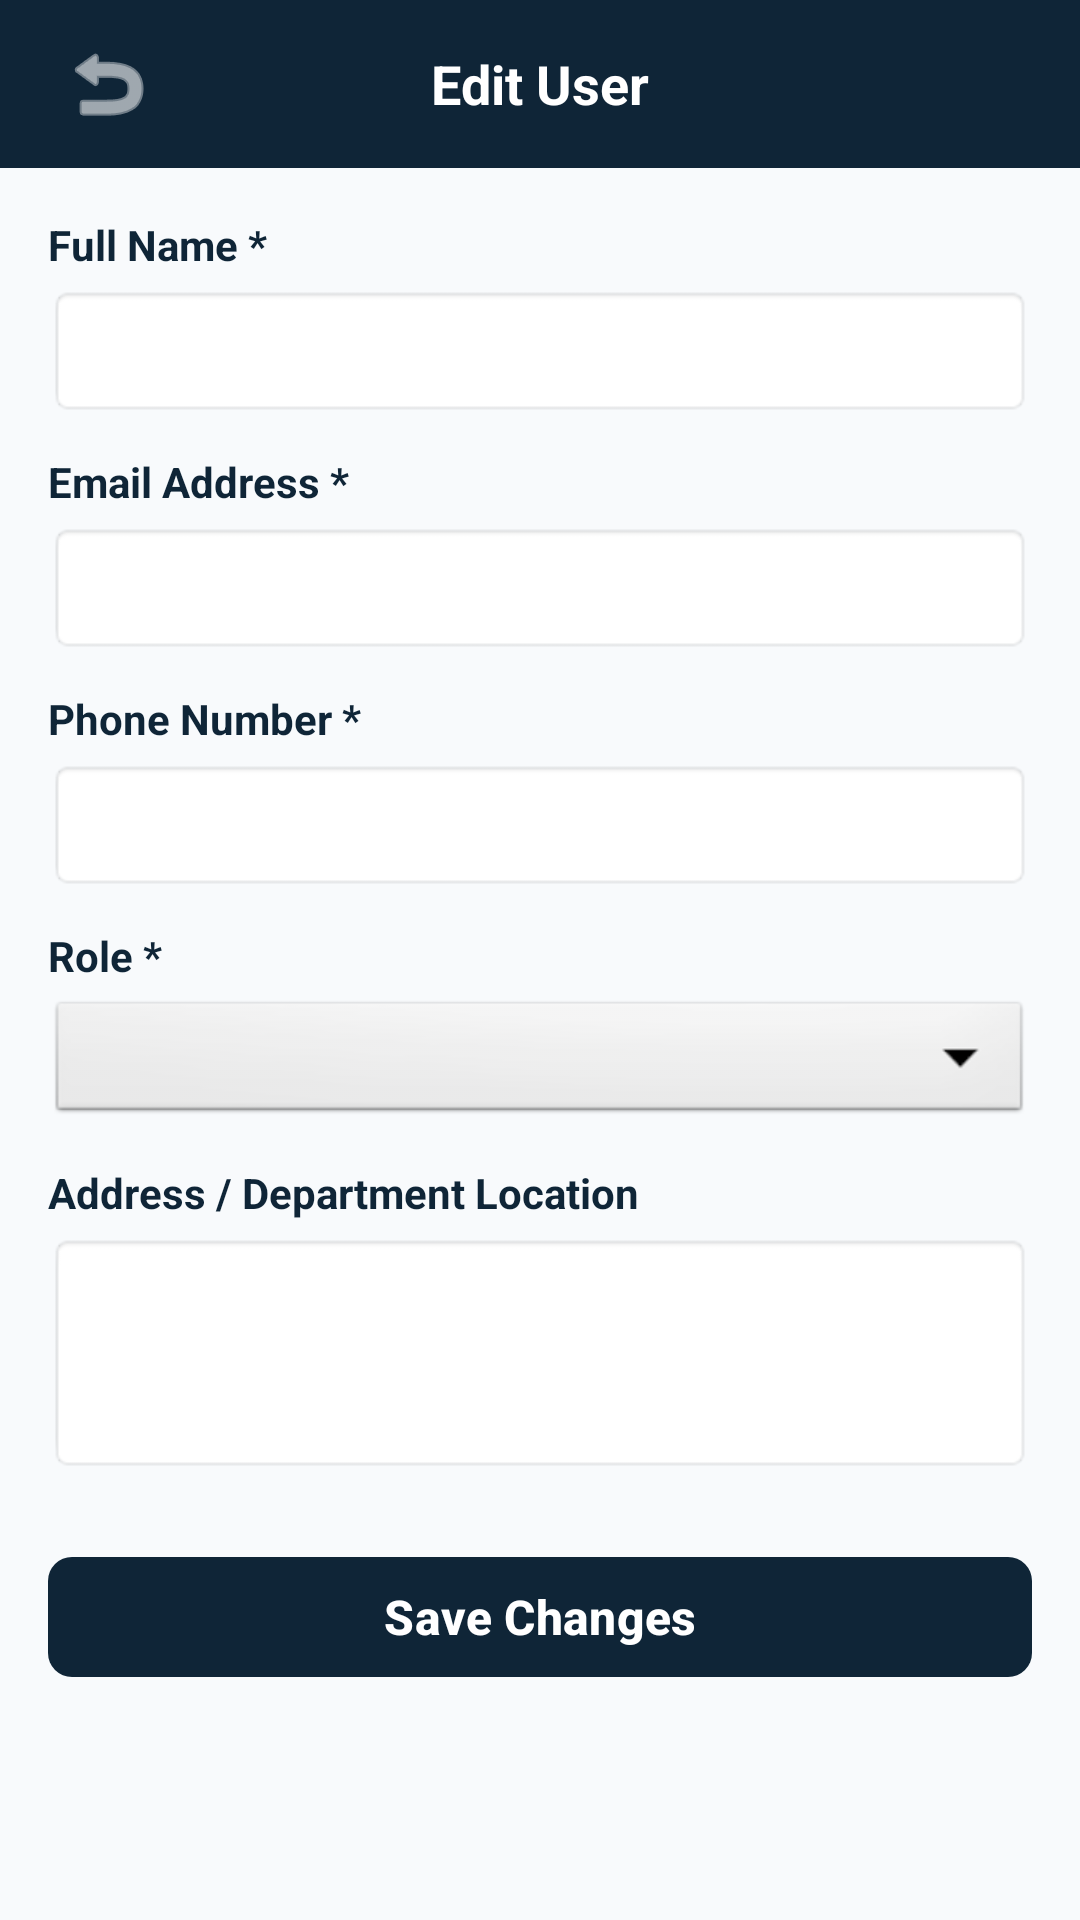

Screen size 1080px×1920px. Icon name, then its box in pixels as (x1, y1, x2, y2):
Back: (75, 53, 144, 116)
